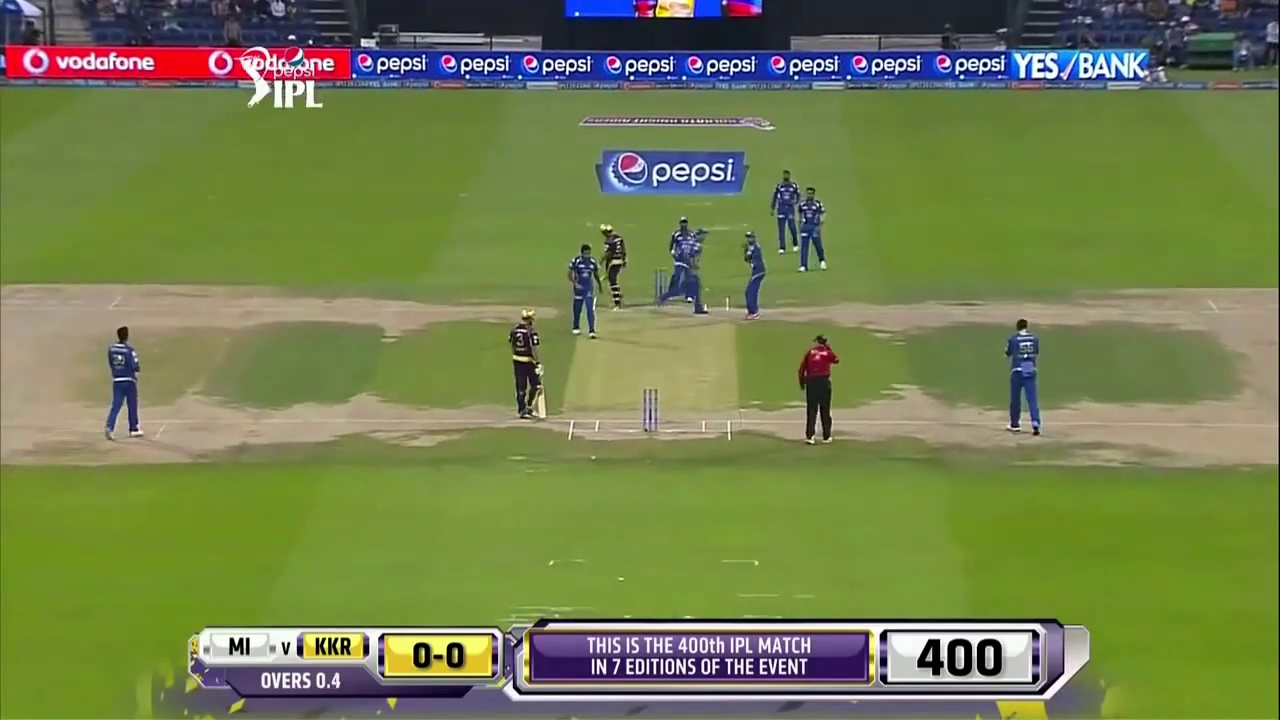stumps: (642, 386, 658, 436), (534, 380, 548, 420)
